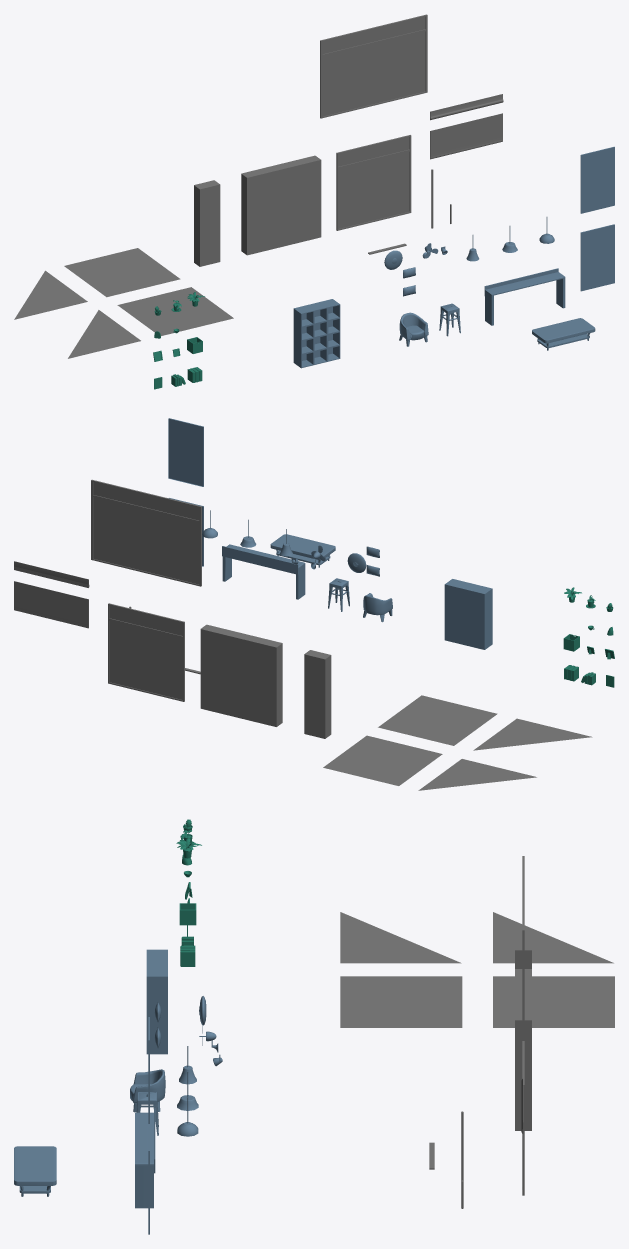
Rendered from CaféProps.fbx.
The picture shows the model from 3 angles, top to bottom: view 1: azimuth 30°, elevation 25°; view 2: azimuth 150°, elevation 25°; view 3: azimuth 270°, elevation 25°; orthographic projection. The views are drawn at different scales.
Visible parts, largest first — view 1: Window1, Wall, Window, Floor, Ceiling, Shelf, WallThin, Blinds, WallArt, WallArtAlt, Floor_Corner, Ceiling_Corner (+4 smaller); view 2: Window1, Wall, Window, Floor, Ceiling, Shelf, WallThin, Blinds, WallArtAlt, Ceiling_Corner, Floor_Corner, Bar (+3 smaller); view 3: Ceiling, Floor, Ceiling_Corner, Floor_Corner, Wall, Shelf, Table, Bar, ChairAlt.
Part boxes in pixels (bbox=[...]): Window1: bbox=[320, 14, 427, 118]; Wall: bbox=[241, 155, 321, 255]; Window: bbox=[336, 135, 411, 230]; Floor: bbox=[64, 248, 180, 297]; Ceiling: bbox=[117, 287, 233, 335]; Shelf: bbox=[293, 299, 340, 368]; WallThin: bbox=[194, 180, 220, 266]; Blinds: bbox=[430, 113, 502, 159]; WallArt: bbox=[580, 224, 614, 291]; WallArtAlt: bbox=[580, 146, 614, 213]; Floor_Corner: bbox=[14, 270, 87, 319]; Ceiling_Corner: bbox=[68, 310, 140, 358]; Window1: bbox=[91, 479, 201, 586]; Wall: bbox=[200, 624, 282, 726]; Window: bbox=[108, 603, 184, 701]; Floor: bbox=[323, 735, 442, 785]; Ceiling: bbox=[378, 695, 497, 745]; Shelf: bbox=[444, 579, 492, 649]; WallThin: bbox=[304, 650, 331, 738]; Blinds: bbox=[14, 581, 88, 628]; WallArtAlt: bbox=[168, 418, 203, 486]; Ceiling_Corner: bbox=[473, 718, 592, 750]; Floor_Corner: bbox=[418, 759, 536, 790]; Bar: bbox=[222, 544, 305, 599]; Ceiling: bbox=[340, 976, 462, 1027]; Floor: bbox=[493, 976, 614, 1027]; Ceiling_Corner: bbox=[340, 912, 461, 963]; Floor_Corner: bbox=[493, 912, 613, 963]; Wall: bbox=[515, 969, 531, 1130]; Shelf: bbox=[146, 949, 167, 1054]; Table: bbox=[14, 1146, 56, 1196]; Bar: bbox=[135, 1108, 155, 1208]; ChairAlt: bbox=[130, 1069, 165, 1112].
Size of the model in its own units: 26.96 by 10.03 by 19.7.
